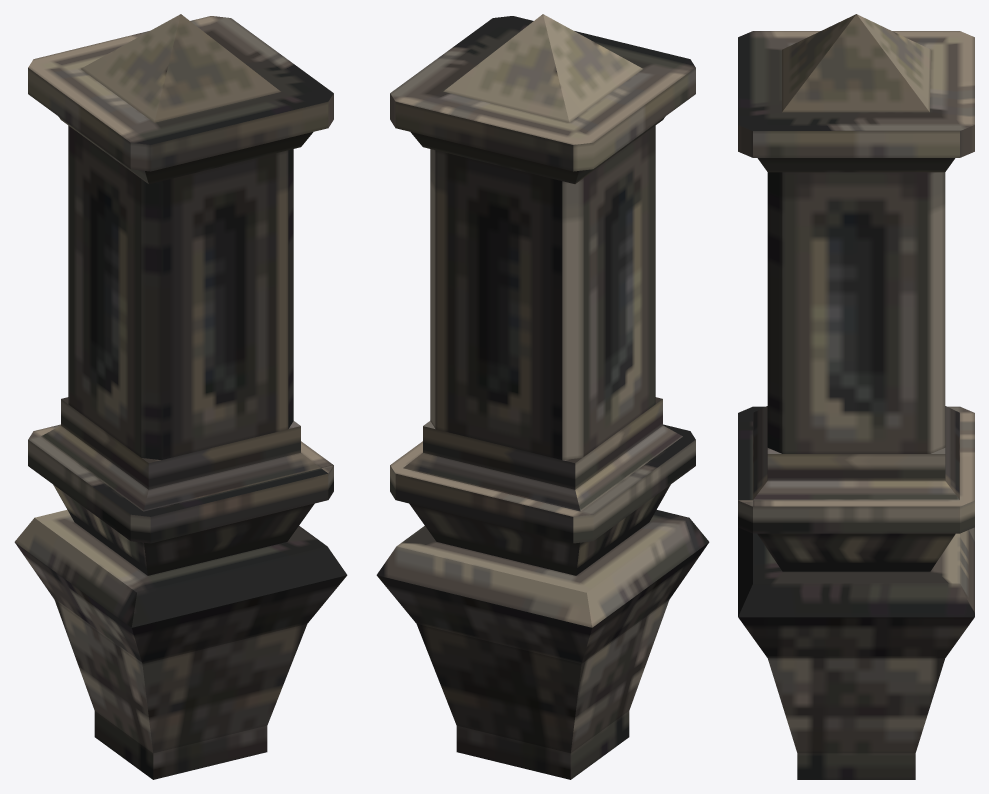
File: EnvMdrMD_Castle_A_Fence_Post_C.FBX
The picture shows the model from 3 angles, left to right: view 1: azimuth 30°, elevation 25°; view 2: azimuth 150°, elevation 25°; view 3: azimuth 270°, elevation 25°; orthographic projection.
Parts seen in each view (by area): view 1: EnvMdrMD_Castle_A_Fence_Post_C; view 2: EnvMdrMD_Castle_A_Fence_Post_C; view 3: EnvMdrMD_Castle_A_Fence_Post_C.
Boxes of the visible parts, left/top/right/bottom form: EnvMdrMD_Castle_A_Fence_Post_C: left=14, top=14, right=347, bottom=779; EnvMdrMD_Castle_A_Fence_Post_C: left=376, top=14, right=709, bottom=779; EnvMdrMD_Castle_A_Fence_Post_C: left=738, top=14, right=974, bottom=779.
Bounding box in the file's own units: 85 × 275 × 80.
1 material, 1 textured.
